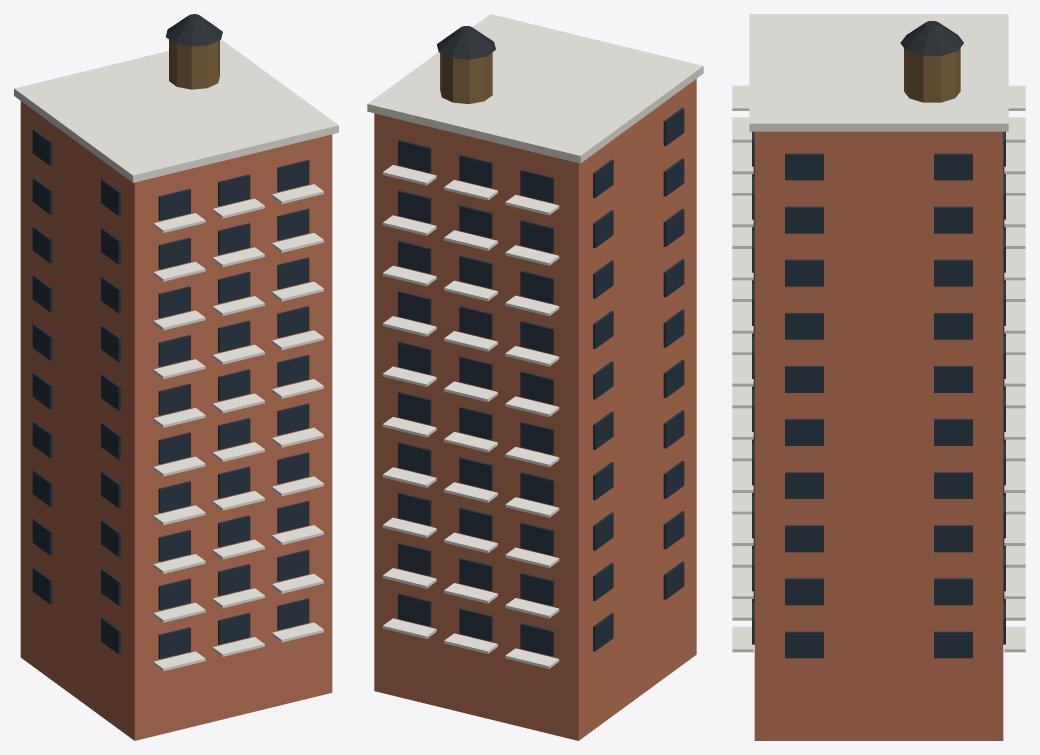
The model's file is tower_3.glb.
The picture shows the model from 3 angles, left to right: view 1: azimuth 30°, elevation 25°; view 2: azimuth 150°, elevation 25°; view 3: azimuth 270°, elevation 25°; orthographic projection. The views are drawn at different scales.
Visible parts, largest first — view 1: Cube.001; view 2: Cube.001; view 3: Cube.001.
Boxes of the visible parts, bbox=[...] form: Cube.001: bbox=[14, 14, 338, 740]; Cube.001: bbox=[367, 14, 703, 740]; Cube.001: bbox=[732, 14, 1025, 740].
Size of the model in its own units: 14.6 by 42.7 by 16.5.
